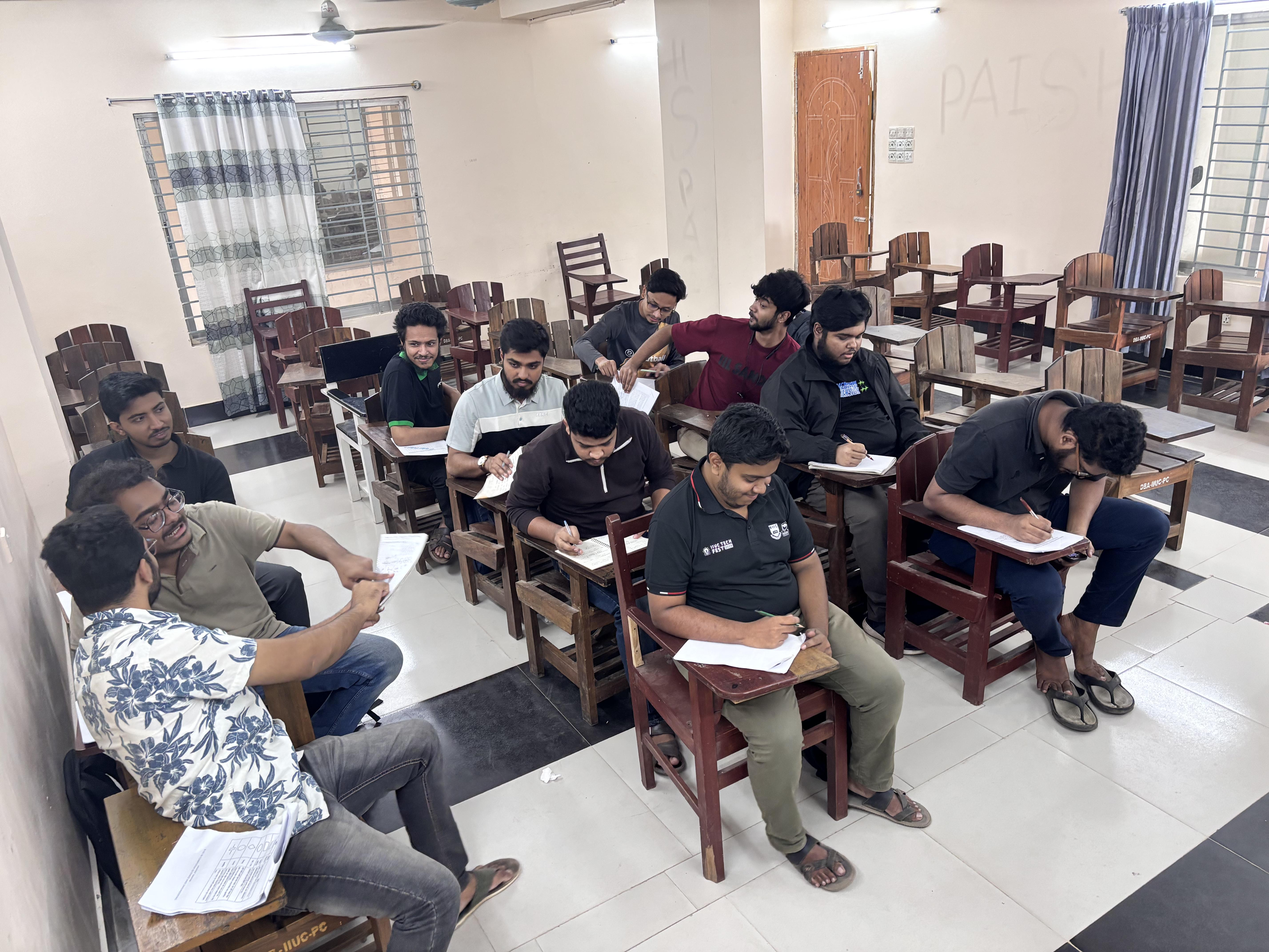exchanging_sheets: (19, 459, 447, 819), (595, 260, 817, 419)
no_cheating: (640, 409, 889, 803), (920, 379, 1200, 685), (764, 295, 930, 492), (519, 388, 688, 568)
side_talking: (361, 296, 490, 467)
suspicious_moving: (70, 370, 238, 524), (452, 316, 583, 506)
